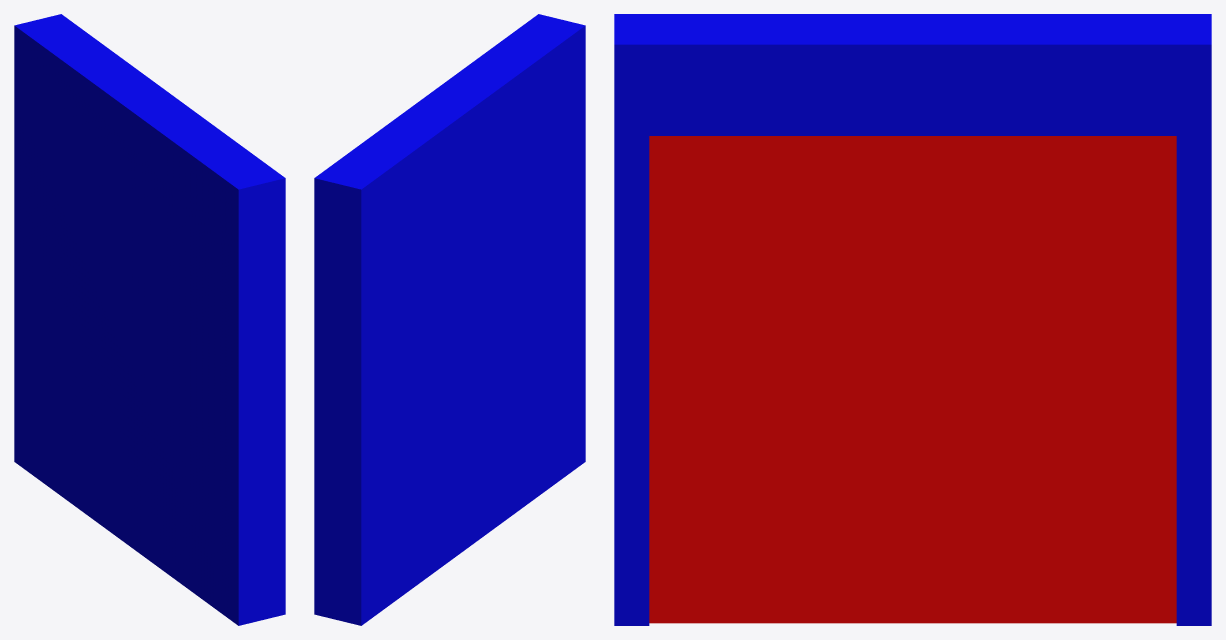
The model's file is BlankWall.fbx.
The picture shows the model from 3 angles, left to right: view 1: azimuth 30°, elevation 25°; view 2: azimuth 150°, elevation 25°; view 3: azimuth 270°, elevation 25°; orthographic projection. The views are drawn at different scales.
Visible parts, largest first — view 1: BlankWall; view 2: BlankWall; view 3: BlankWall.
Boxes of the visible parts, x1,y1,x2,y2 form: BlankWall: (14,14,285,625); BlankWall: (314,14,585,625); BlankWall: (614,14,1211,625).
Size of the model in its own units: 365 by 44.16 by 391.
